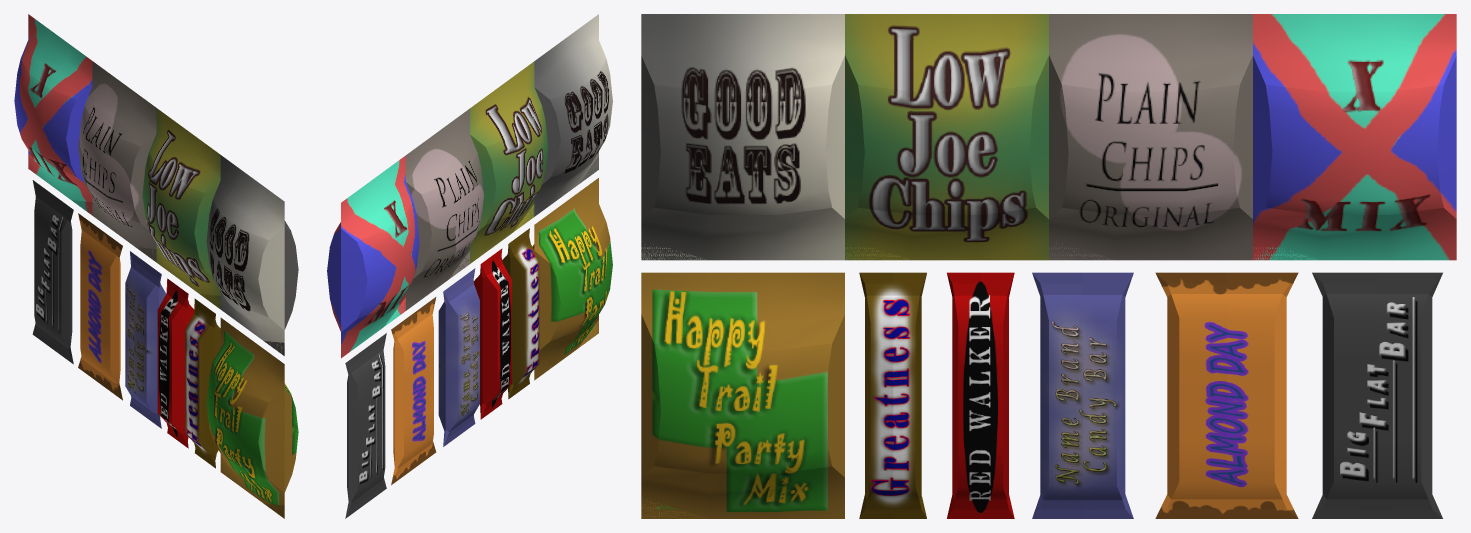
The model's file is SnacksModels.fbx.
3 renders of one model, left to right at view 1: azimuth 30°, elevation 25°; view 2: azimuth 150°, elevation 25°; view 3: azimuth 270°, elevation 25°, orthographic. The views are drawn at different scales.
Parts seen in each view (by area): view 1: Bag_HappyMix, Bag_GoodEats, Bag_LowJoe, Bag_PlainChips, Bag_XMix, Candy_AlmondDay, Candy_BigBar, Candy_NameBrand, Candy_RedWalker, Candy_Greatness; view 2: Bag_XMix, Bag_HappyMix, Bag_LowJoe, Bag_GoodEats, Bag_PlainChips, Candy_AlmondDay, Candy_NameBrand, Candy_BigBar, Candy_RedWalker, Candy_Greatness; view 3: Bag_HappyMix, Bag_GoodEats, Bag_LowJoe, Bag_PlainChips, Bag_XMix, Candy_AlmondDay, Candy_BigBar, Candy_NameBrand, Candy_Greatness, Candy_RedWalker.
Boxes of the visible parts, x1,y1,x2,y2 form: Bag_HappyMix: (206, 317, 298, 518); Bag_GoodEats: (206, 155, 298, 355); Bag_LowJoe: (142, 108, 220, 309); Bag_PlainChips: (78, 61, 156, 261); Bag_XMix: (14, 14, 92, 215); Candy_AlmondDay: (78, 213, 122, 400); Candy_BigBar: (32, 180, 73, 364); Candy_NameBrand: (125, 251, 166, 428); Candy_RedWalker: (157, 278, 194, 448); Candy_Greatness: (185, 298, 220, 468); Bag_XMix: (327, 155, 419, 358); Bag_HappyMix: (532, 178, 612, 380); Bag_LowJoe: (470, 61, 548, 263); Bag_GoodEats: (534, 14, 612, 216); Bag_PlainChips: (405, 108, 483, 310); Candy_AlmondDay: (391, 297, 436, 485); Candy_NameBrand: (438, 268, 479, 446); Candy_BigBar: (345, 333, 386, 518); Candy_RedWalker: (474, 248, 511, 419); Candy_Greatness: (502, 228, 539, 399); Bag_HappyMix: (641, 272, 844, 518); Bag_GoodEats: (641, 14, 844, 260); Bag_LowJoe: (845, 14, 1048, 260); Bag_PlainChips: (1049, 14, 1252, 260); Bag_XMix: (1253, 14, 1456, 260); Candy_AlmondDay: (1155, 272, 1298, 518); Candy_BigBar: (1312, 272, 1442, 518); Candy_NameBrand: (1032, 272, 1133, 518); Candy_Greatness: (859, 272, 926, 518); Candy_RedWalker: (947, 272, 1014, 518).
Size of the model in its own units: 1.5 by 8.2 by 12.
